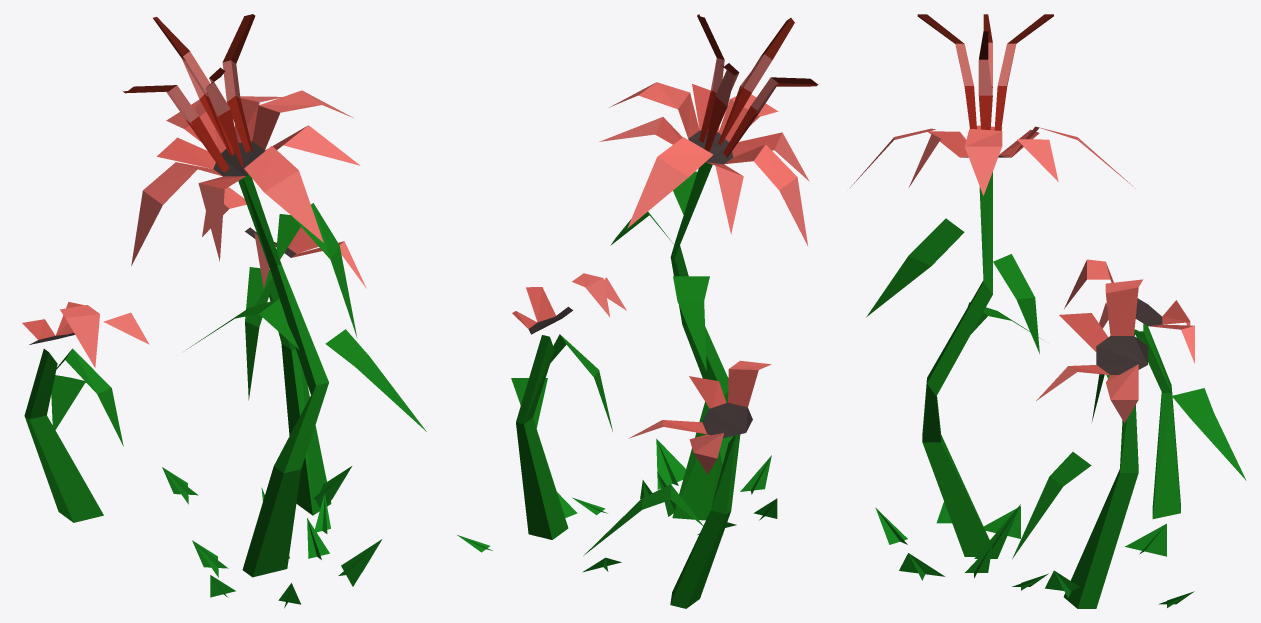
3 renders of one model, left to right at view 1: azimuth 30°, elevation 25°; view 2: azimuth 150°, elevation 25°; view 3: azimuth 270°, elevation 25°, orthographic. The views are drawn at different scales.
Bounding box in the file's own units: 75 × 122 × 85.
Materials: 1 (1 with a texture image).
